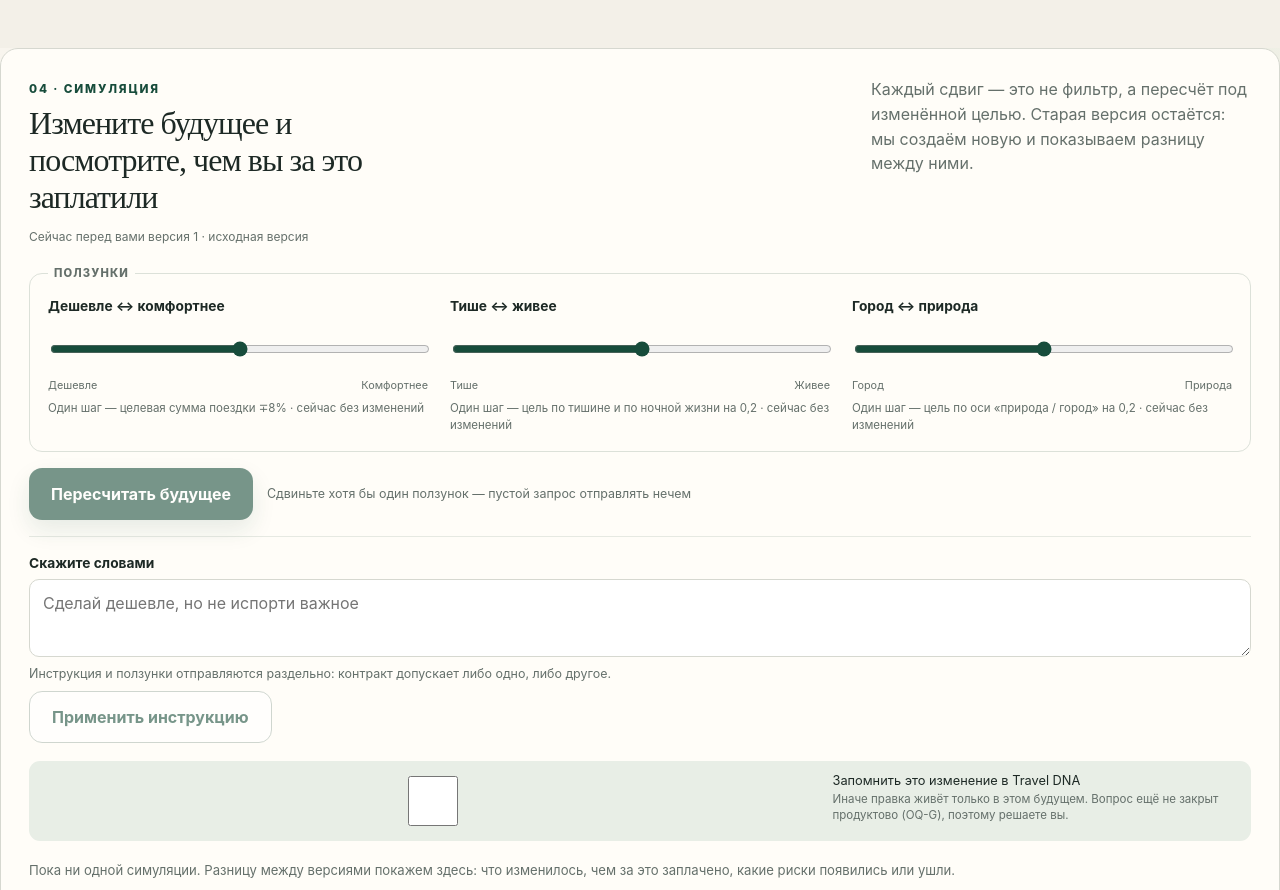
SimulatorPanel › surfaces delta arithmetic that does not add up instead of hiding it
Set the slider labelled "Дешевле ↔ комфортнее" to "-1": {"x": 179, "y": 349} [50, 324, 430, 374]
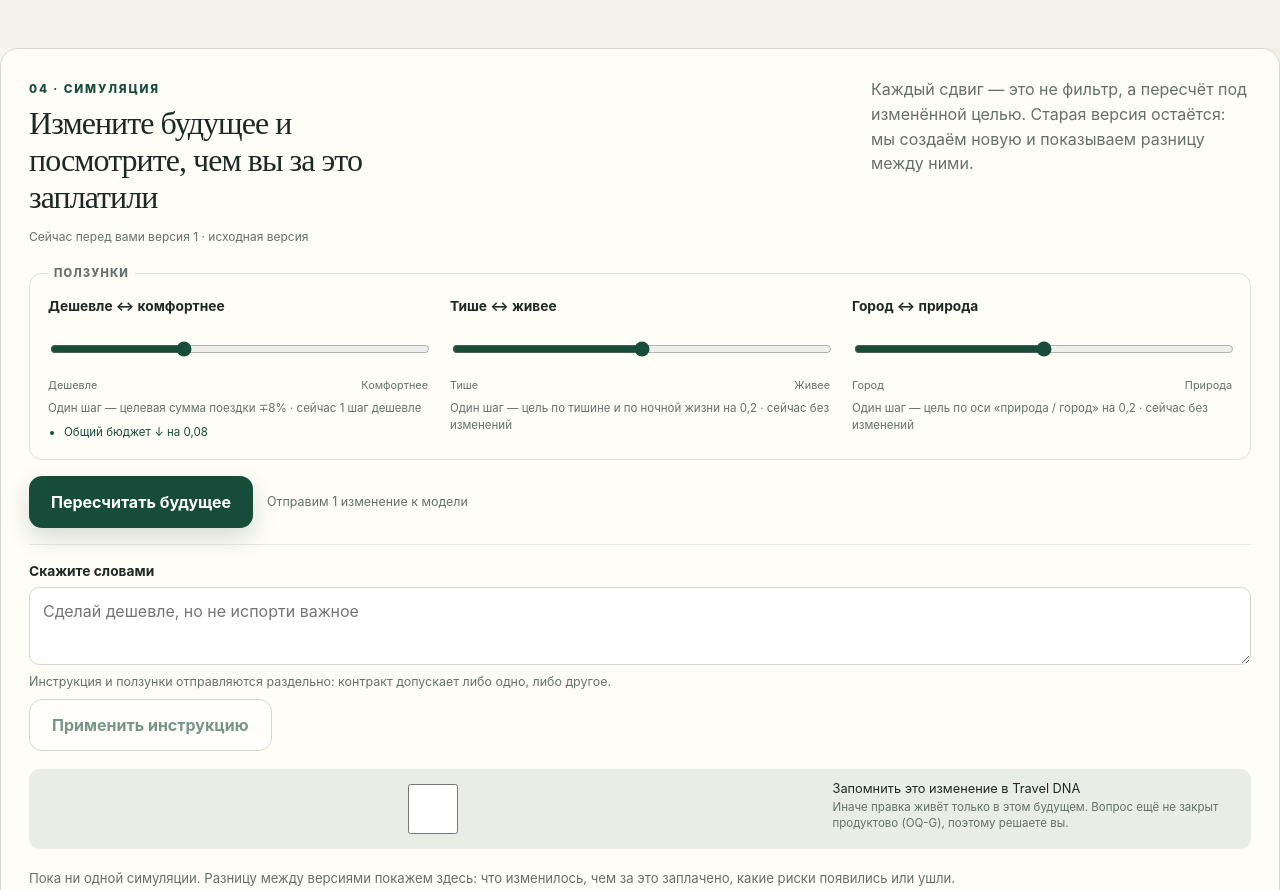
Click the button "Пересчитать будущее": {"x": 141, "y": 502} [29, 476, 253, 528]
(page scrolled)
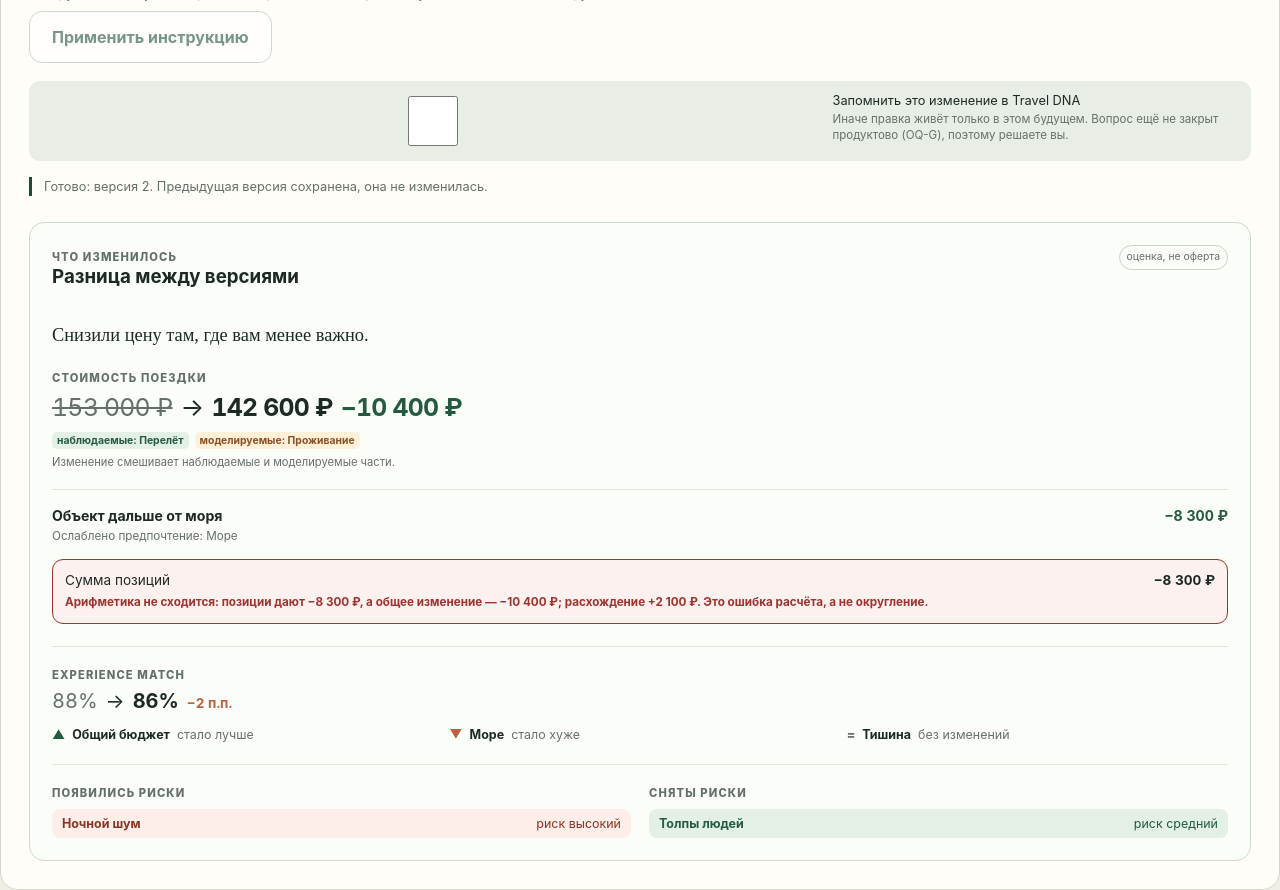
expect the heading "Разница между версиями" is shown: met, box [52, 265, 299, 288]
expect the message that starts with "Сумма позиций" shows "Арифметика не сходится": met, box [65, 595, 928, 609]
expect the message that starts with "Сумма позиций" shows "расхождение": met, box [65, 595, 928, 609]
